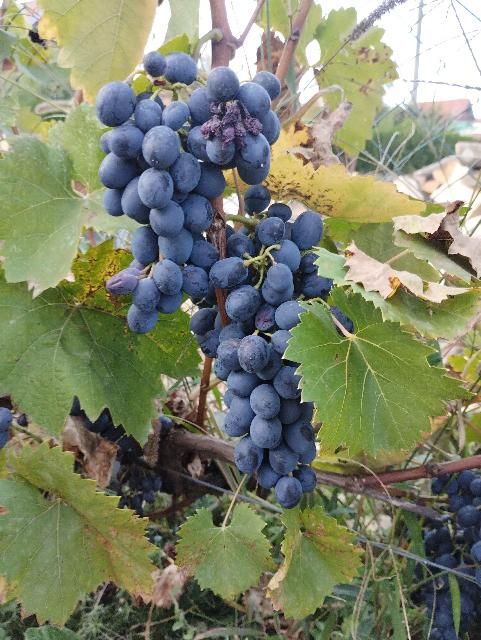grapes: (95, 68, 280, 332), (190, 184, 334, 509), (144, 51, 198, 85)
